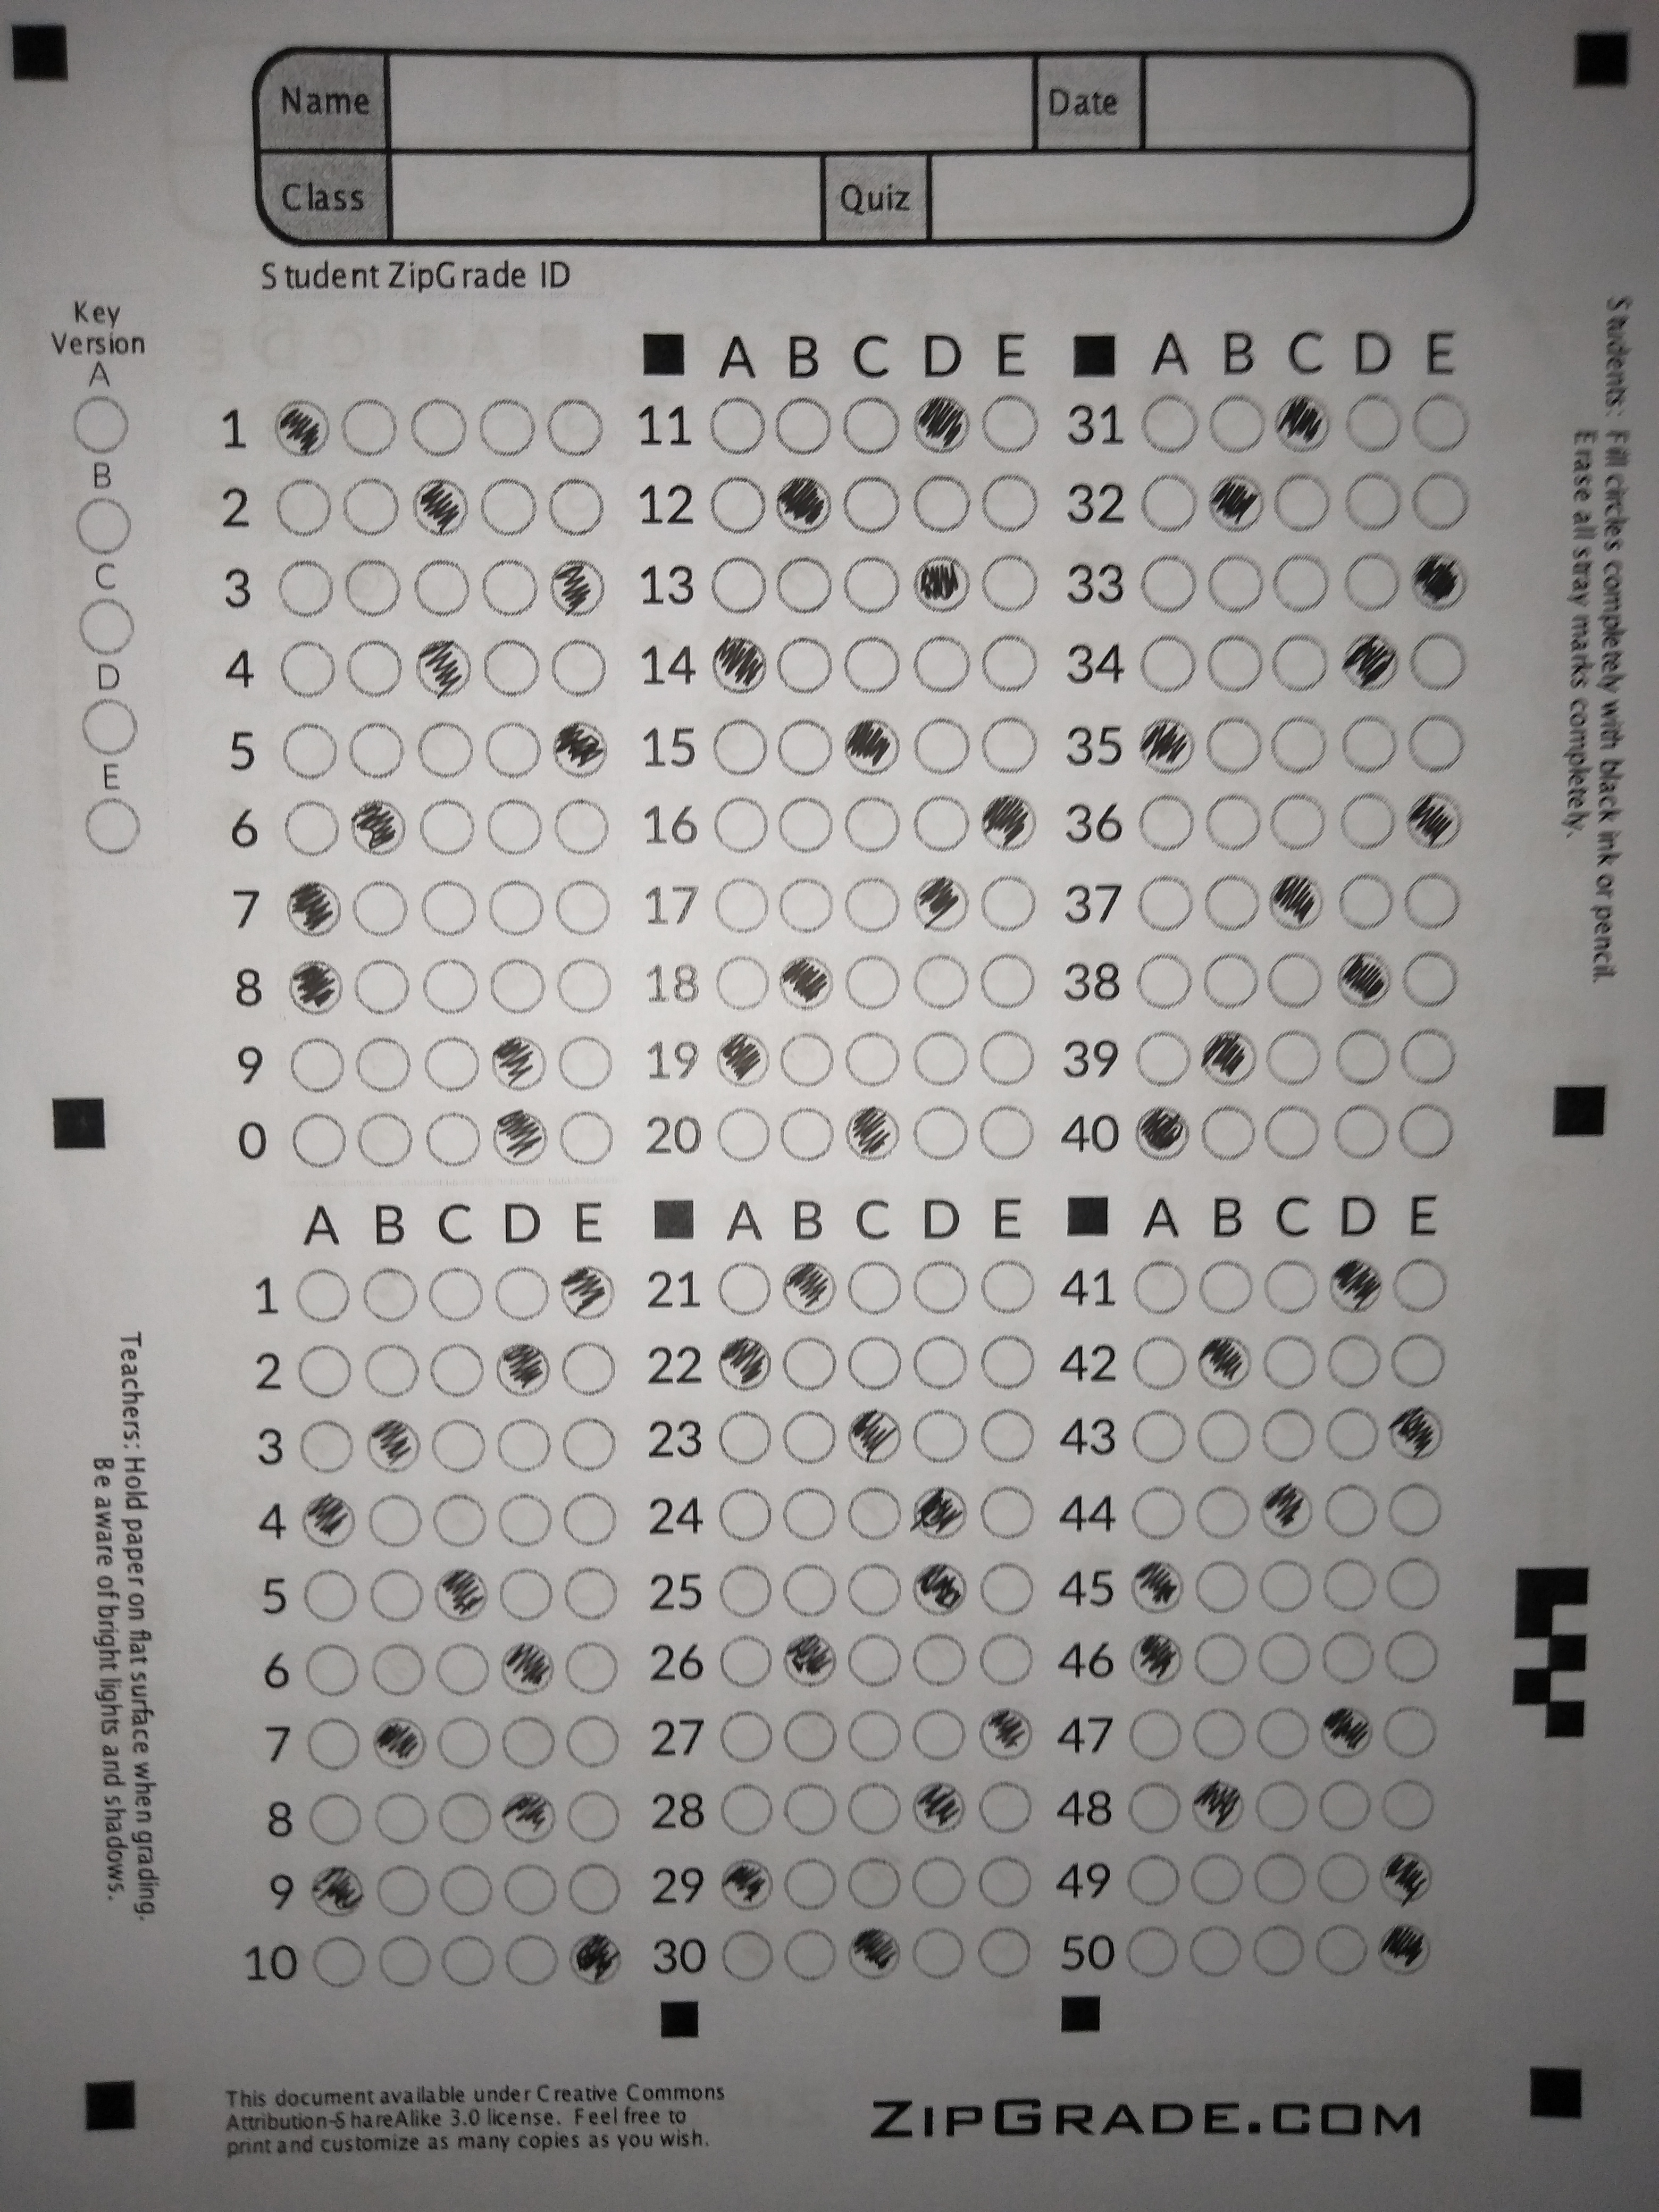not-c: (1127, 388, 1204, 462), (270, 714, 343, 787), (976, 390, 1046, 467), (415, 1031, 490, 1101), (978, 547, 1051, 617), (263, 552, 338, 620), (556, 1329, 626, 1400), (545, 639, 619, 707), (545, 873, 619, 941), (908, 789, 976, 862), (972, 953, 1046, 1021), (1126, 871, 1199, 939), (486, 949, 552, 1024), (274, 796, 343, 866), (976, 876, 1046, 946), (1406, 463, 1476, 533), (1328, 1097, 1398, 1167), (556, 1413, 627, 1480), (342, 718, 408, 791), (704, 791, 777, 857), (1331, 467, 1405, 533), (268, 637, 338, 705), (549, 792, 617, 862), (281, 1028, 349, 1097), (838, 394, 908, 462), (702, 549, 770, 618), (838, 552, 908, 620), (704, 712, 772, 782), (1406, 388, 1476, 456), (1133, 631, 1202, 698), (1267, 632, 1337, 700), (80, 794, 150, 862), (481, 718, 547, 789), (906, 631, 978, 697), (906, 1097, 972, 1169), (71, 596, 143, 662), (1124, 1026, 1197, 1090), (978, 634, 1053, 697), (474, 474, 542, 542), (336, 474, 406, 540), (267, 474, 336, 540), (415, 951, 481, 1021), (1129, 550, 1199, 617), (66, 394, 136, 460), (70, 493, 139, 559), (77, 695, 146, 761), (343, 876, 415, 941), (978, 1252, 1042, 1324), (1133, 470, 1204, 535), (1201, 871, 1263, 944), (1110, 1848, 1183, 1911), (406, 554, 474, 620), (481, 794, 547, 862), (349, 951, 415, 1019), (835, 631, 901, 698), (972, 1848, 1040, 1914), (1396, 944, 1464, 1010), (1385, 1329, 1453, 1395), (286, 1264, 355, 1329), (910, 714, 979, 779), (906, 1630, 976, 1695), (1202, 632, 1267, 702), (1197, 714, 1267, 779), (1335, 711, 1399, 780), (1131, 789, 1201, 853), (1195, 1097, 1260, 1167), (338, 637, 410, 700), (981, 711, 1044, 782), (1262, 953, 1333, 1015), (476, 554, 542, 620), (349, 1026, 415, 1092), (843, 791, 910, 857), (1267, 470, 1333, 536), (403, 394, 471, 458), (474, 392, 538, 460), (554, 1033, 622, 1097), (556, 1104, 620, 1172), (488, 1413, 556, 1477), (561, 1857, 626, 1925), (702, 394, 770, 458), (1202, 549, 1267, 617), (1270, 552, 1338, 617), (1124, 1258, 1192, 1322), (1378, 1627, 1446, 1691), (336, 390, 399, 460), (544, 472, 606, 542), (305, 1932, 375, 1994), (836, 472, 906, 535), (779, 789, 842, 859), (708, 876, 777, 939), (709, 1484, 779, 1547), (972, 1775, 1042, 1838), (1405, 709, 1467, 779), (1398, 1019, 1460, 1089), (547, 390, 606, 463), (479, 637, 544, 704), (556, 954, 620, 1021), (558, 1637, 624, 1702), (976, 470, 1042, 535), (708, 1103, 774, 1167), (1401, 867, 1466, 934), (1330, 1026, 1394, 1092), (1126, 1329, 1190, 1395), (1119, 1921, 1183, 1987), (416, 716, 479, 784), (416, 876, 479, 944), (775, 550, 838, 618), (1403, 632, 1471, 695), (1199, 951, 1262, 1019), (1319, 1331, 1387, 1393), (908, 1252, 969, 1322), (711, 1562, 781, 1623), (1269, 711, 1330, 780), (293, 1338, 357, 1402), (561, 1709, 626, 1773), (910, 951, 974, 1015), (906, 1329, 971, 1393), (1262, 1028, 1326, 1092), (1387, 1254, 1452, 1318), (481, 878, 547, 941), (842, 951, 908, 1014), (777, 1707, 843, 1770), (1342, 390, 1405, 456), (777, 712, 838, 780), (840, 876, 901, 944), (976, 1480, 1044, 1541), (1321, 1400, 1382, 1468), (1251, 1705, 1319, 1766), (342, 554, 401, 624), (415, 798, 477, 862), (291, 1414, 355, 1477), (498, 1932, 563, 1994), (704, 472, 769, 535), (908, 1404, 971, 1468), (978, 1404, 1040, 1468), (842, 1630, 904, 1695), (1260, 1103, 1324, 1165), (1321, 1477, 1384, 1541), (1253, 1629, 1316, 1693), (355, 1111, 422, 1172), (838, 1031, 904, 1092), (775, 1484, 842, 1545), (904, 1707, 971, 1768), (1331, 794, 1398, 855), (1377, 1703, 1443, 1764), (491, 1259, 551, 1327), (281, 1109, 350, 1167), (361, 1264, 423, 1327), (298, 1564, 361, 1627), (434, 1641, 497, 1703), (375, 1928, 437, 1991), (1202, 794, 1265, 857), (1190, 1406, 1253, 1468), (1385, 1555, 1448, 1618), (1248, 1777, 1310, 1839), (774, 394, 835, 458), (772, 634, 833, 698), (777, 1101, 838, 1165), (978, 1101, 1039, 1165), (713, 1258, 774, 1322), (843, 1851, 904, 1916), (1209, 392, 1270, 456), (1255, 1327, 1316, 1392), (1316, 1555, 1380, 1616), (427, 1261, 486, 1327), (434, 1707, 493, 1773), (913, 469, 972, 535), (845, 1327, 903, 1395), (713, 1926, 781, 1984), (300, 1637, 361, 1700), (376, 1860, 437, 1923), (910, 1026, 971, 1089), (775, 1028, 836, 1090), (842, 1256, 903, 1318), (714, 1404, 777, 1465), (713, 1705, 775, 1766), (713, 1780, 775, 1841), (1342, 554, 1405, 615), (1133, 953, 1195, 1014), (1185, 1844, 1246, 1907), (1249, 1919, 1310, 1982), (362, 1489, 427, 1548), (976, 1028, 1040, 1087), (843, 1484, 908, 1543), (777, 1780, 842, 1839), (845, 1777, 904, 1841), (1337, 871, 1396, 935), (1260, 1254, 1319, 1318), (781, 876, 838, 942), (1398, 1099, 1455, 1165), (1119, 1778, 1185, 1836), (359, 1345, 427, 1400), (491, 1566, 559, 1622), (303, 1712, 364, 1773), (373, 1787, 434, 1848), (906, 1926, 967, 1987), (1124, 1480, 1185, 1541), (423, 1109, 483, 1172), (779, 1334, 842, 1393), (978, 1334, 1040, 1393), (779, 1559, 838, 1622), (843, 1561, 903, 1623), (713, 1632, 775, 1691), (1124, 1406, 1187, 1465), (1190, 1555, 1253, 1615), (1122, 1705, 1185, 1764), (366, 1639, 430, 1696), (709, 958, 774, 1015), (369, 1562, 425, 1629), (561, 1487, 620, 1548), (305, 1789, 366, 1848), (781, 1406, 842, 1465), (978, 1632, 1037, 1693), (842, 1707, 903, 1766), (1385, 1480, 1445, 1541), (1256, 1554, 1316, 1615), (1317, 1629, 1378, 1688), (1377, 1773, 1438, 1832), (565, 1564, 622, 1627), (498, 1714, 561, 1771), (437, 1787, 495, 1850), (910, 1850, 967, 1912), (1267, 794, 1331, 850), (425, 1416, 484, 1475), (1256, 1406, 1316, 1465), (1192, 1480, 1251, 1540), (1190, 1630, 1249, 1689), (432, 1487, 493, 1545), (437, 1862, 498, 1919), (500, 1858, 558, 1919), (779, 1855, 836, 1916), (976, 1559, 1039, 1615), (497, 1489, 554, 1548), (1195, 1259, 1255, 1317), (1190, 1705, 1248, 1764), (1316, 1777, 1375, 1834), (1312, 1848, 1371, 1905), (1312, 1921, 1370, 1980), (784, 1926, 840, 1987), (978, 1921, 1033, 1982), (441, 1926, 495, 1989), (1190, 1921, 1244, 1984), (565, 1787, 624, 1843), (1249, 1848, 1305, 1907), (430, 1343, 483, 1402)
taken-c: (272, 395, 335, 460), (913, 550, 974, 617), (772, 472, 835, 535), (910, 392, 971, 456), (1195, 1331, 1256, 1393), (1208, 470, 1267, 535), (410, 475, 471, 536), (1267, 873, 1328, 934), (1335, 948, 1396, 1008), (432, 1561, 491, 1623), (1274, 392, 1333, 455), (1410, 550, 1469, 613), (1342, 629, 1401, 691), (1406, 787, 1466, 850), (551, 719, 610, 780), (298, 1489, 357, 1550), (843, 1406, 903, 1467), (913, 874, 972, 935), (1389, 1402, 1448, 1463), (416, 634, 474, 697), (284, 876, 342, 939), (718, 1331, 775, 1393), (714, 1028, 772, 1090), (547, 559, 612, 615), (491, 1109, 551, 1169), (779, 1629, 838, 1688), (910, 1482, 969, 1541), (368, 1414, 425, 1475), (308, 1862, 369, 1919), (976, 1705, 1037, 1763), (910, 1561, 971, 1618), (777, 1259, 838, 1317), (978, 794, 1039, 852), (843, 1103, 901, 1163), (559, 1261, 615, 1324), (713, 634, 769, 697), (350, 799, 408, 859), (488, 1035, 547, 1092), (498, 1637, 556, 1696), (371, 1714, 430, 1771), (847, 1925, 904, 1984), (843, 718, 903, 775), (779, 953, 836, 1012), (1136, 718, 1195, 775), (1201, 1028, 1258, 1087), (495, 1338, 551, 1399), (286, 958, 343, 1015), (716, 1853, 774, 1911), (1133, 1104, 1190, 1162), (1258, 1482, 1316, 1540), (913, 1775, 969, 1834), (1316, 1703, 1375, 1759), (1330, 1259, 1387, 1315), (1131, 1559, 1187, 1616), (1188, 1778, 1246, 1834), (1380, 1848, 1436, 1905), (1377, 1919, 1434, 1975), (500, 1789, 556, 1844), (568, 1930, 624, 1986), (1127, 1632, 1183, 1688)
